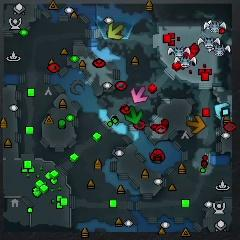x1: (131, 85, 149, 103)
x2: (107, 23, 124, 40)
x3: (214, 102, 231, 120)
x4: (125, 106, 143, 125)
x5: (187, 115, 206, 134)
